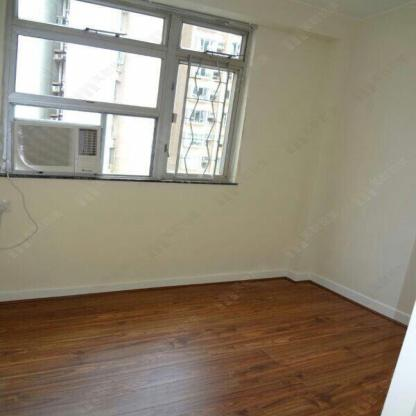AC: (12, 118, 103, 177)
